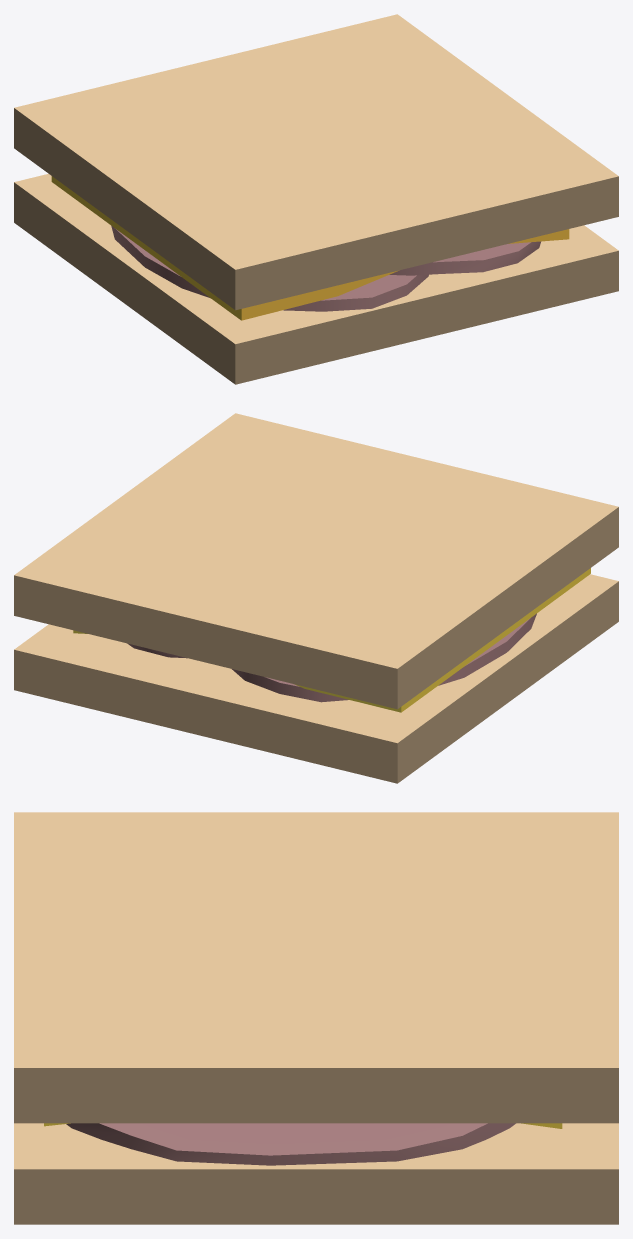
Rendered from hamandcheese.fbx.
3 views of the same model, one above another, from view 1: azimuth 30°, elevation 25°; view 2: azimuth 150°, elevation 25°; view 3: azimuth 270°, elevation 25° (orthographic). The views are drawn at different scales.
Parts seen in each view (by area): view 1: pCube4, pCube3, pCylinder2, pCube2, pCylinder1; view 2: pCube4, pCube3, pCylinder2, pCube2; view 3: pCube4, pCube3, pCylinder1.
Boxes of the visible parts, x1,y1,x2,y2 form: pCube4: (14, 14, 618, 310); pCube3: (14, 173, 618, 384); pCylinder2: (111, 225, 428, 311); pCube2: (51, 176, 569, 320); pCylinder1: (389, 241, 541, 275); pCube4: (14, 413, 618, 709); pCube3: (14, 574, 618, 783); pCylinder2: (232, 613, 536, 702); pCube2: (73, 568, 590, 712); pCube4: (14, 812, 618, 1123); pCube3: (14, 1123, 618, 1224); pCylinder1: (66, 1123, 515, 1165).
Bounding box in the file's own units: 2.9 × 0.831 × 2.9.
3 materials, 3 textured.
